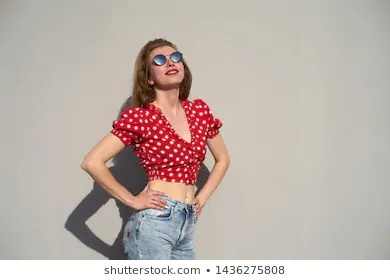C_short blouse: (112, 99, 223, 184)
